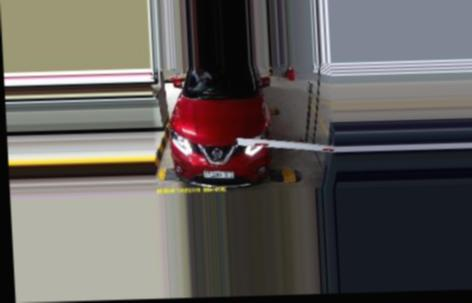License_Plate: (202, 169, 236, 179)
